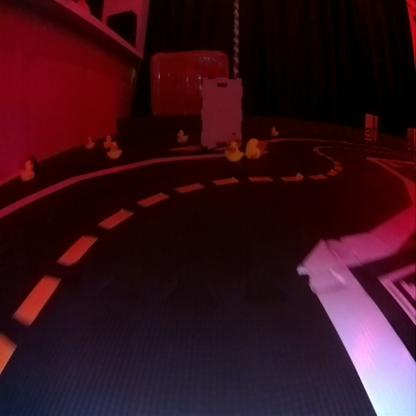Duckie: (245, 137, 260, 159), (225, 141, 240, 161), (20, 160, 35, 180), (107, 144, 122, 158), (84, 136, 95, 147), (176, 130, 187, 140), (103, 135, 112, 147), (271, 126, 278, 134)
